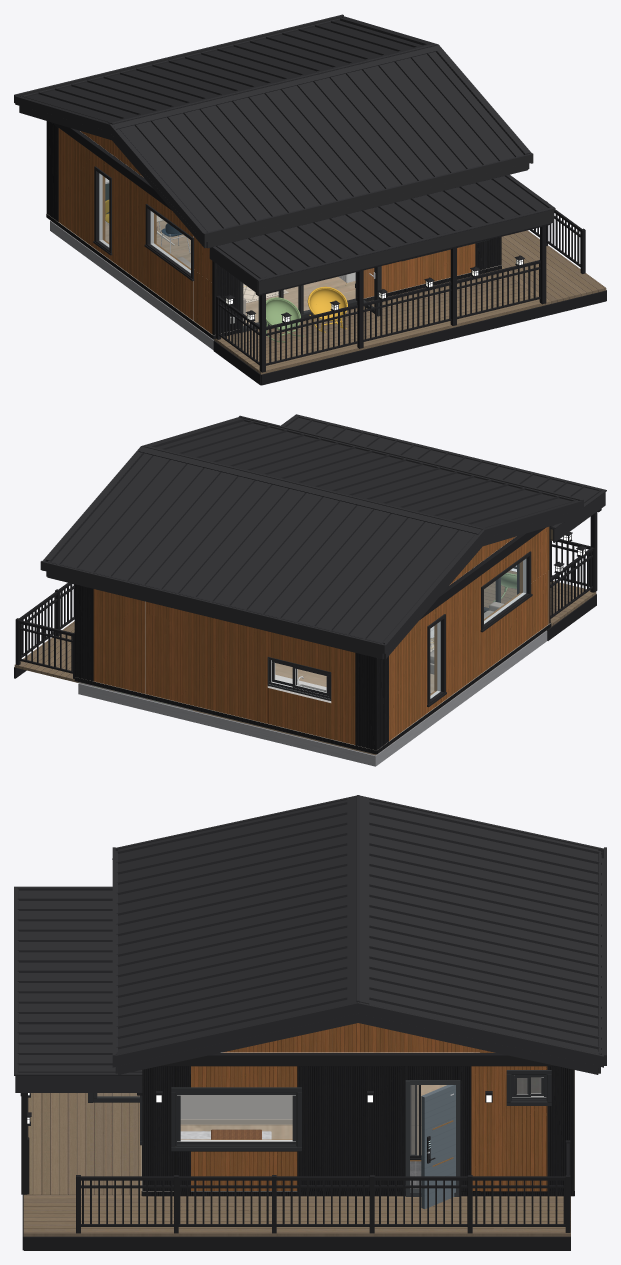
File: seum-15.glb
The picture shows the model from 3 angles, top to bottom: view 1: azimuth 30°, elevation 25°; view 2: azimuth 150°, elevation 25°; view 3: azimuth 270°, elevation 25°; orthographic projection. The views are drawn at different scales.
Parts seen in each view (by area): view 1: 지붕_Roof_DarkGray, 지붕_Metal_Flashing, Metal_Black, Ext_Wood, Deck_Porch, Ext_Black, Deck_Composite, Floor_Oak, Concrete_Slab, 지붕_Metal_Black, Material_14, Material_17 (+7 smaller); view 2: 지붕_Roof_DarkGray, Ext_Wood, 지붕_Metal_Flashing, Ext_Black, Metal_Black, Concrete_Slab, Material_14, Deck_Composite, 지붕_Metal_Black, Deck_Porch, I_FrameDarkGray, Floor_Oak (+6 smaller); view 3: 지붕_Roof_DarkGray, 지붕_Metal_Flashing, Ext_Black, Metal_Black, Deck_Composite, Ext_Wood, Deck_Porch, I_FrameDarkGray, 지붕_Metal_Black, 지붕_Ext_Wood, Material_28, Material_7 (+4 smaller).
Part boxes in pixels (x1,y1,x2,y2): 지붕_Roof_DarkGray: (22, 18, 550, 278); 지붕_Metal_Flashing: (14, 14, 555, 294); Metal_Black: (213, 201, 606, 385); Ext_Wood: (58, 128, 475, 333); Deck_Porch: (214, 269, 545, 374); Ext_Black: (46, 121, 501, 339); Deck_Composite: (500, 230, 606, 305); Floor_Oak: (91, 220, 355, 339); Concrete_Slab: (50, 220, 213, 350); 지붕_Metal_Black: (51, 122, 550, 295); Material_14: (150, 211, 190, 272); Material_17: (239, 266, 381, 332); 지붕_Roof_DarkGray: (49, 415, 601, 642); Ext_Wood: (93, 527, 549, 744); 지붕_Metal_Flashing: (40, 414, 606, 659); Ext_Black: (74, 526, 551, 754); Metal_Black: (14, 512, 597, 678); Concrete_Slab: (78, 630, 547, 766); Material_14: (484, 559, 526, 623); Deck_Composite: (14, 621, 78, 682); 지붕_Metal_Black: (420, 508, 601, 619); Deck_Porch: (484, 570, 596, 626); I_FrameDarkGray: (267, 657, 331, 700); Floor_Oak: (193, 630, 546, 755); 지붕_Roof_DarkGray: (17, 801, 602, 1072); 지붕_Metal_Flashing: (14, 795, 606, 1092); Ext_Black: (141, 1066, 574, 1196); Metal_Black: (21, 1091, 570, 1250); Deck_Composite: (23, 1195, 570, 1236); Ext_Wood: (191, 1066, 547, 1191); Deck_Porch: (24, 1093, 141, 1194); I_FrameDarkGray: (140, 1070, 551, 1151); 지붕_Metal_Black: (20, 1053, 556, 1096); 지붕_Ext_Wood: (222, 1023, 493, 1052); Material_28: (421, 1085, 455, 1209); Material_7: (180, 1052, 479, 1119).
Bounding box in the file's own units: 9.07 × 4.07 × 9.75.
Materials: 148 (37 with a texture image).
